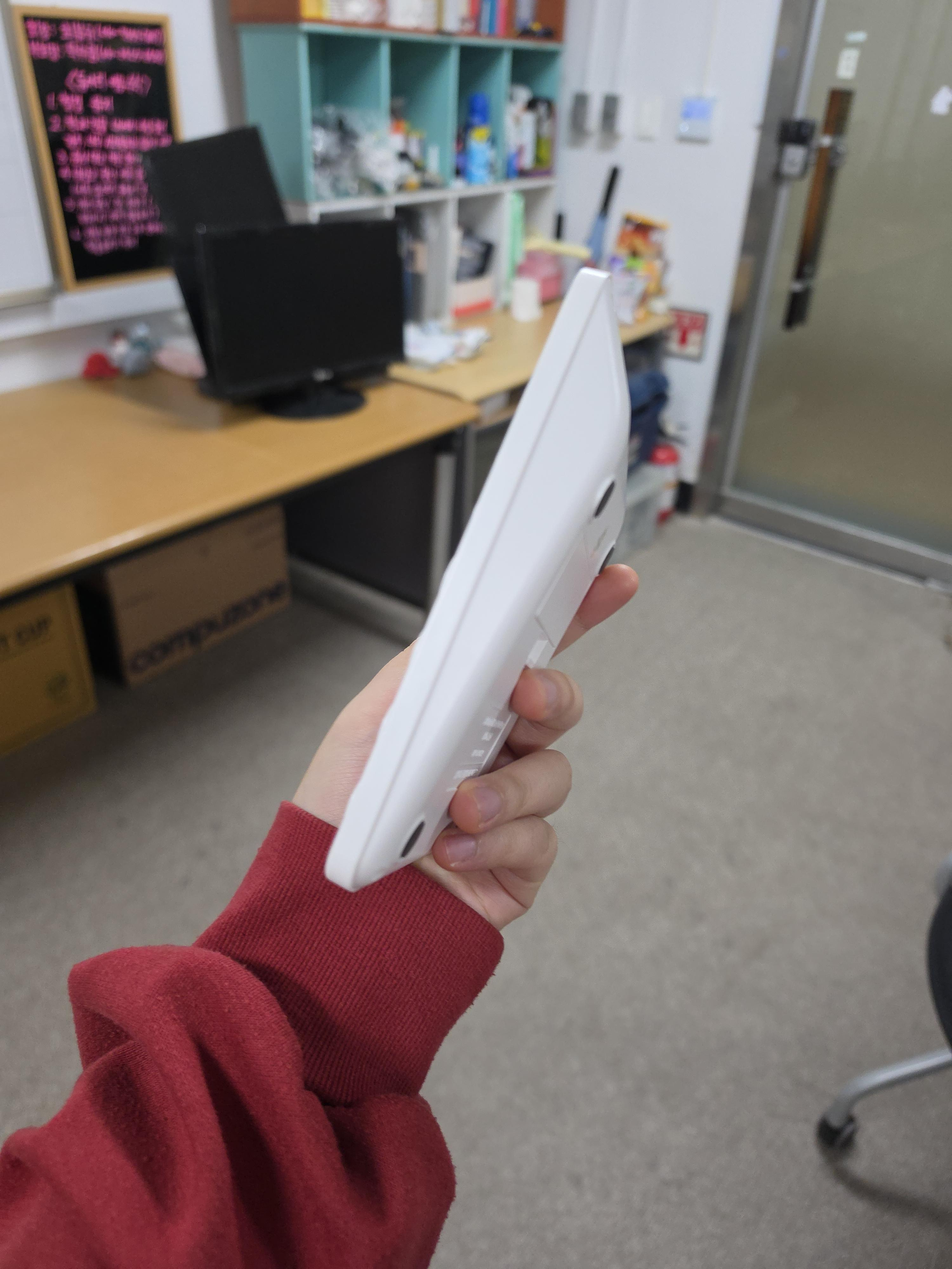calculator: (324, 266, 631, 892)
